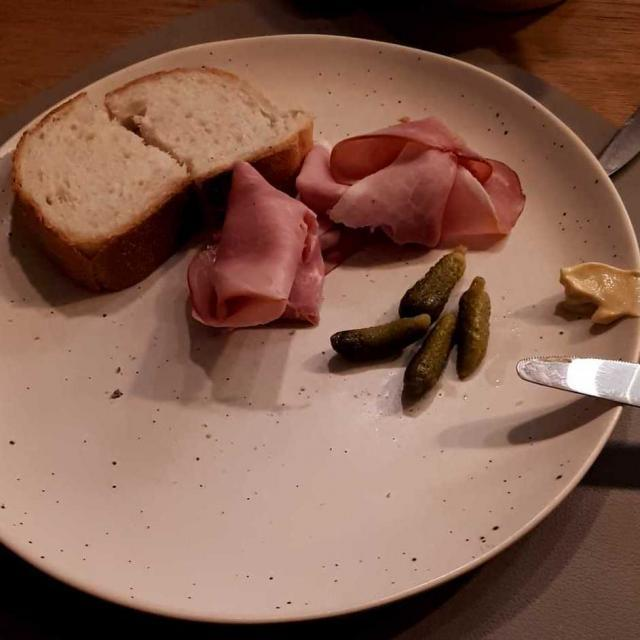bread: (15, 68, 313, 288)
cucumber-pickled: (335, 267, 505, 398)
ham: (199, 99, 533, 334)
mustard: (560, 262, 637, 326)
